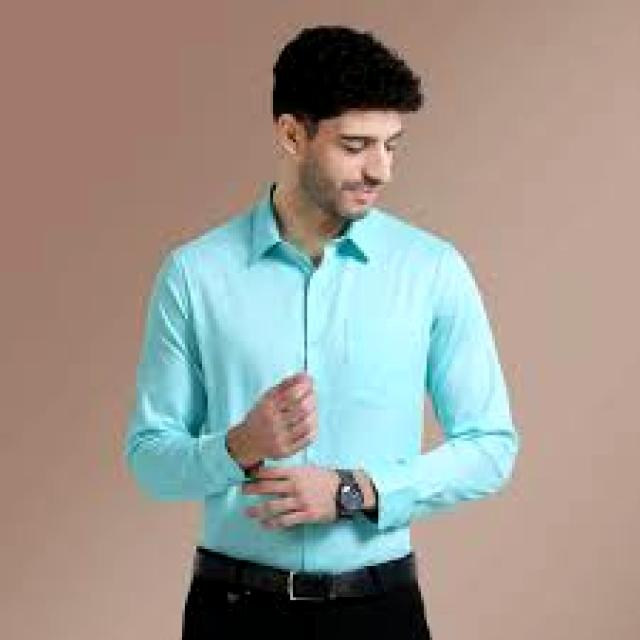face: (274, 22, 421, 221)
lower-wear: (163, 551, 447, 640)
top-wear: (126, 204, 520, 570)
